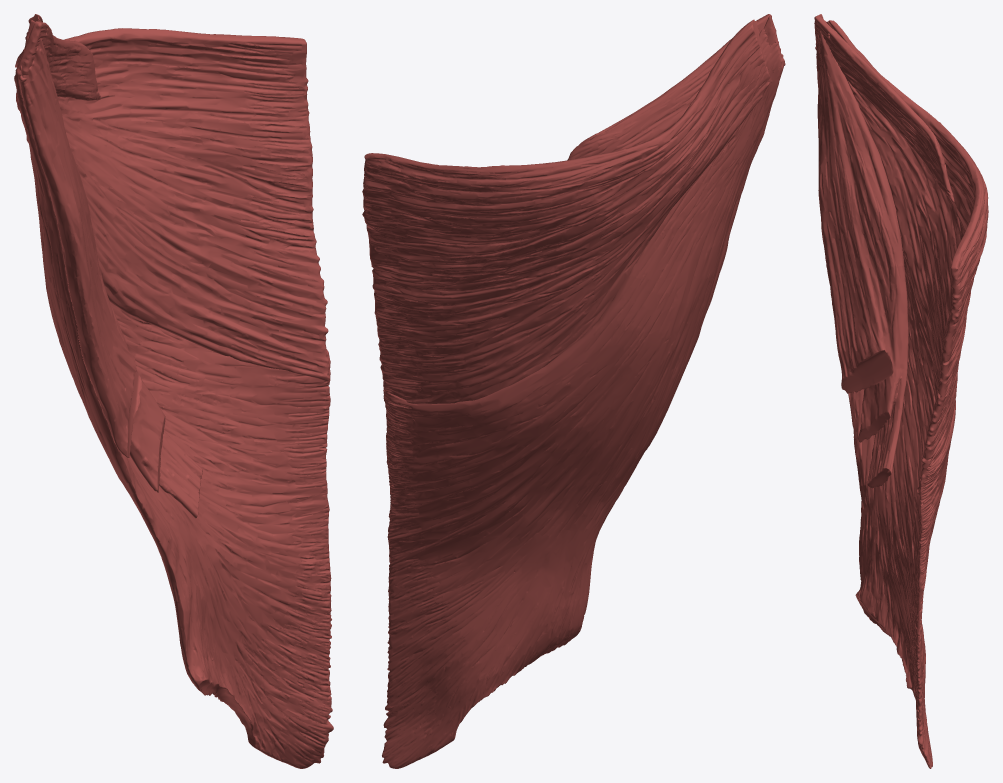
File: FMA13358.glb
The picture shows the model from 3 angles, left to right: view 1: azimuth 30°, elevation 25°; view 2: azimuth 150°, elevation 25°; view 3: azimuth 270°, elevation 25°; orthographic projection. The views are drawn at different scales.
Parts seen in each view (by area): view 1: FMA13358; view 2: FMA13358; view 3: FMA13358.
Boxes of the visible parts, bbox=[...] form: FMA13358: bbox=[14, 14, 333, 768]; FMA13358: bbox=[362, 14, 785, 768]; FMA13358: bbox=[814, 14, 988, 768].
Bounding box in the file's own units: 0.1811 × 0.3973 × 0.0994.
